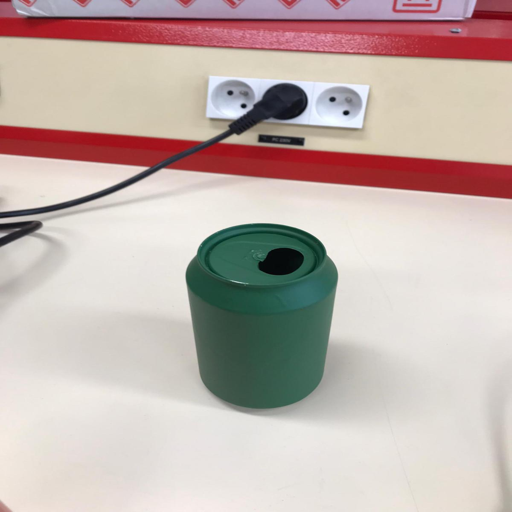Green_Can: (182, 220, 339, 410)
